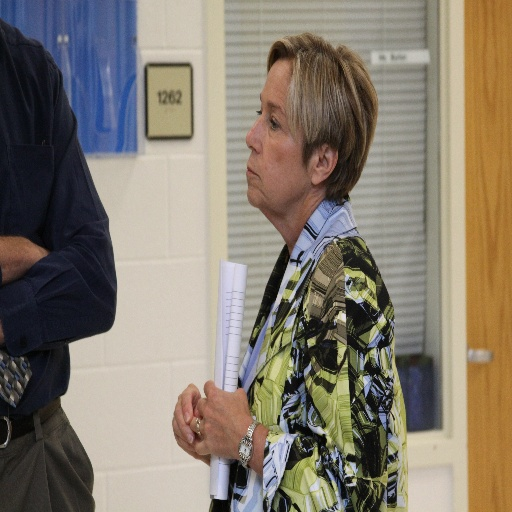hand: (189, 376, 253, 459), (170, 383, 210, 461)
